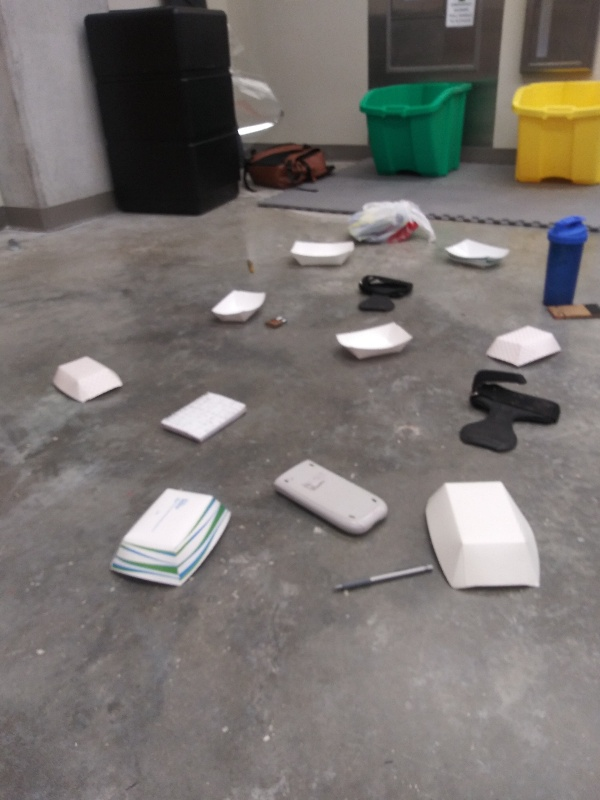plate: (419, 475, 549, 601), (105, 487, 238, 592), (325, 316, 421, 364), (48, 352, 128, 406), (483, 323, 565, 372), (437, 235, 514, 271), (209, 285, 272, 327), (285, 236, 362, 268)
